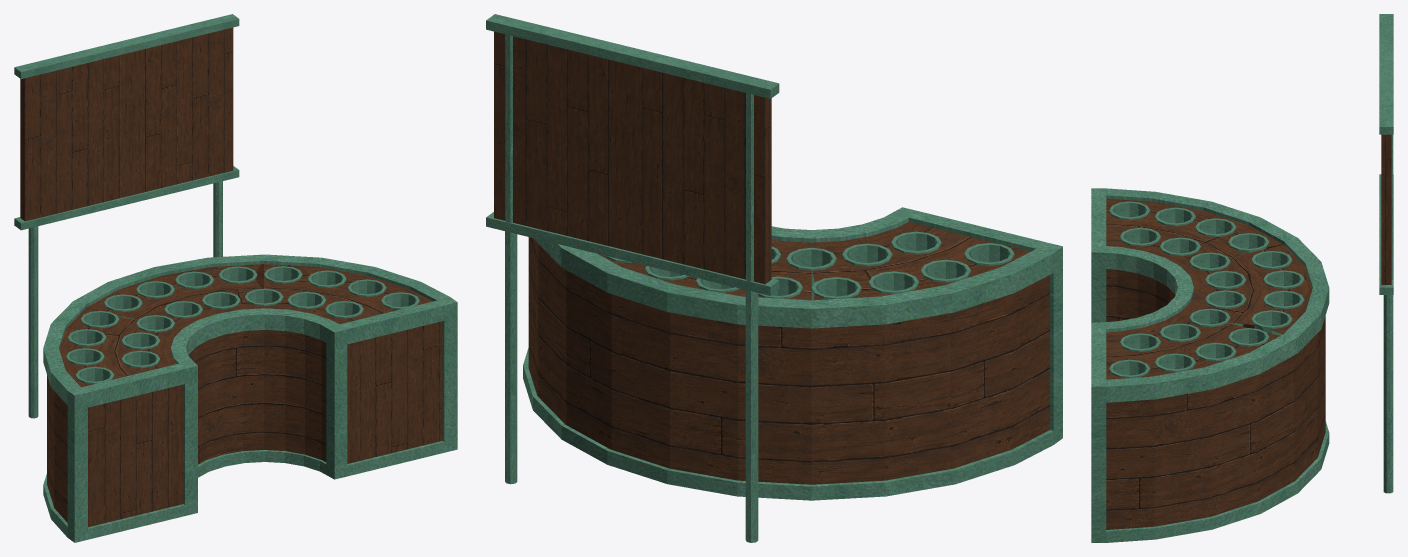
Rendered from Whack_Machine.fbx.
The picture shows the model from 3 angles, left to right: view 1: azimuth 30°, elevation 25°; view 2: azimuth 150°, elevation 25°; view 3: azimuth 270°, elevation 25°; orthographic projection. The views are drawn at different scales.
Parts seen in each view (by area): view 1: Whack_Cabinet, Whack_Scoreboard; view 2: Whack_Cabinet, Whack_Scoreboard; view 3: Whack_Cabinet, Whack_Scoreboard.
Part boxes in pixels (x1=…): Whack_Cabinet: x1=43, y1=254, x2=457, y2=542; Whack_Scoreboard: x1=14, y1=14, x2=239, y2=418; Whack_Cabinet: x1=523, y1=207, x2=1062, y2=500; Whack_Scoreboard: x1=486, y1=14, x2=779, y2=542; Whack_Cabinet: x1=1091, y1=188, x2=1329, y2=542; Whack_Scoreboard: x1=1379, y1=14, x2=1393, y2=493.
Size of the model in its own units: 2.28 by 2 by 1.47.
